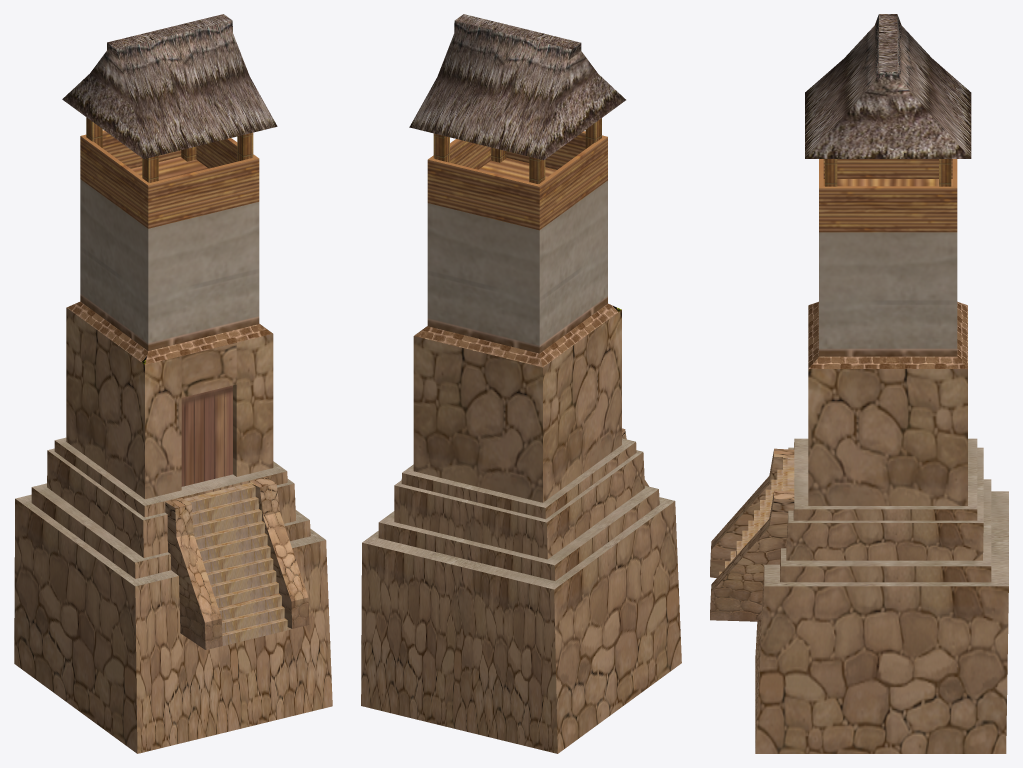
File: tara_stone_tower.dae
3 views of the same model, side by side, from view 1: azimuth 30°, elevation 25°; view 2: azimuth 150°, elevation 25°; view 3: azimuth 270°, elevation 25° (orthographic).
Parts seen in each view (by area): view 1: tower_stone; view 2: tower_stone; view 3: tower_stone.
Boxes of the visible parts, <box> form: tower_stone: <box>14,14,332,753</box>; tower_stone: <box>361,14,681,753</box>; tower_stone: <box>710,14,1008,753</box>.
Bounding box in the file's own units: 8.35 × 10.88 × 27.23.
